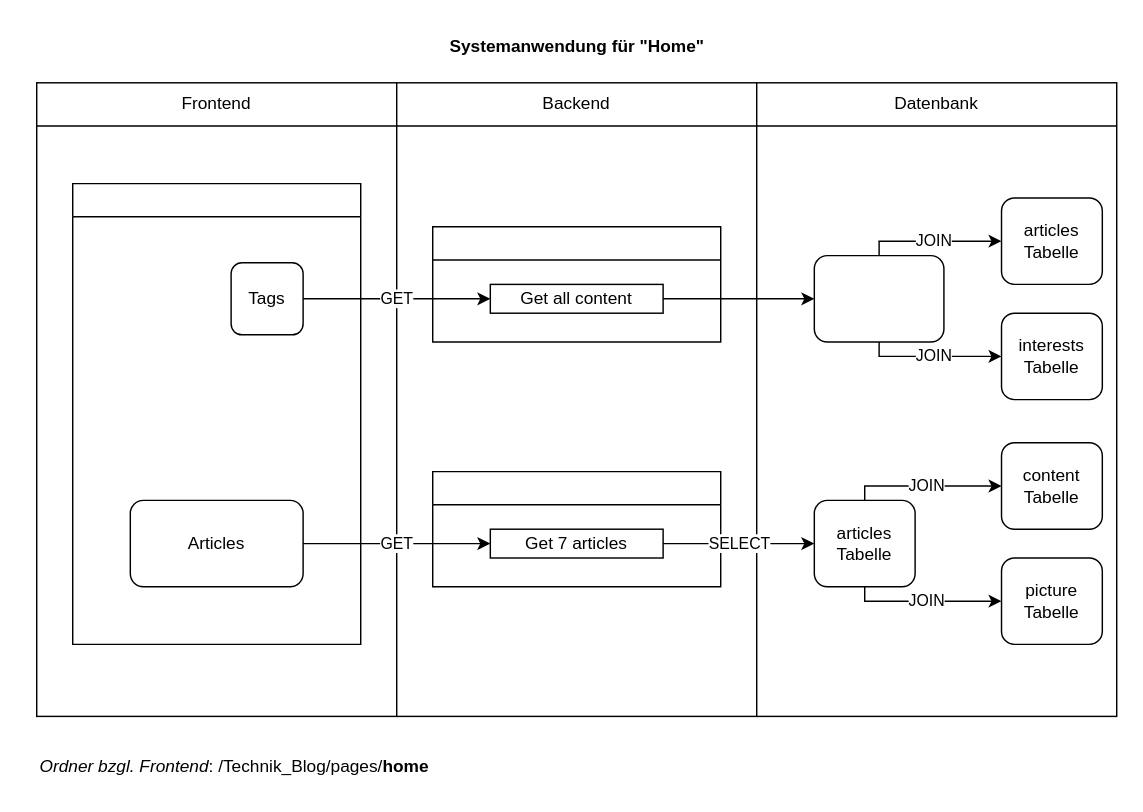
Some shapes in this 1143 by 812 pixel diagram are drawn without their labels. The shapes that lost their labels are listed below. From the top down, each one's box as (x1, y1, x2, y2) in pixels, then its label:
(431, 225, 721, 342): databaseInterests.php
(813, 254, 944, 342): articlesxinterest Tabelle
(71, 182, 361, 644): Home
(431, 470, 721, 587): databaseArticles.php
